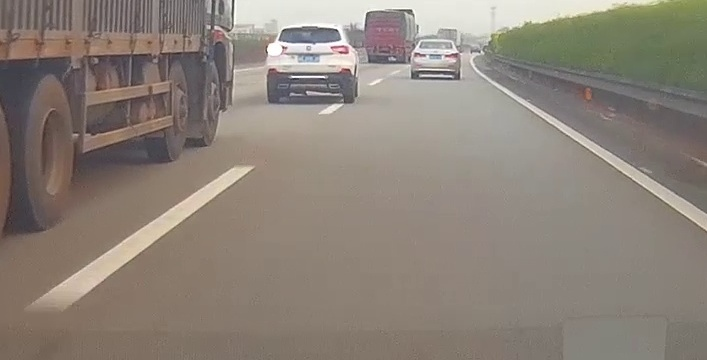L_light: (267, 42, 288, 56), (414, 52, 426, 57)
R_light: (331, 44, 350, 54), (445, 52, 458, 58)
T_light: (302, 25, 318, 28), (433, 42, 441, 43)
day-left: (264, 23, 354, 103)
day-no: (411, 39, 460, 78)
